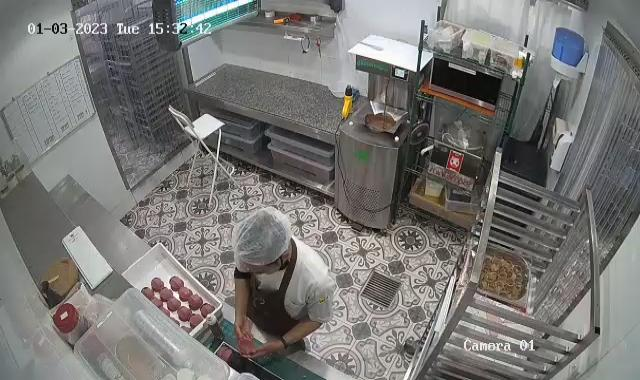hairnet: (234, 205, 292, 270)
